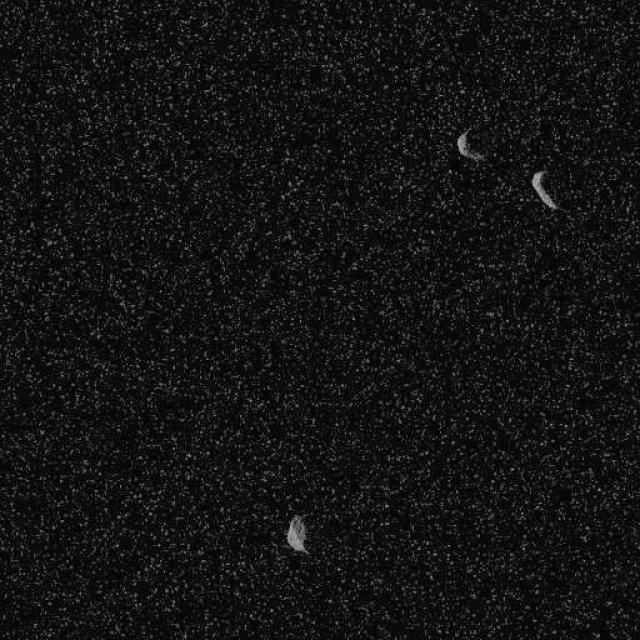D2: (530, 169, 559, 211), (455, 126, 486, 160), (285, 514, 309, 555)
